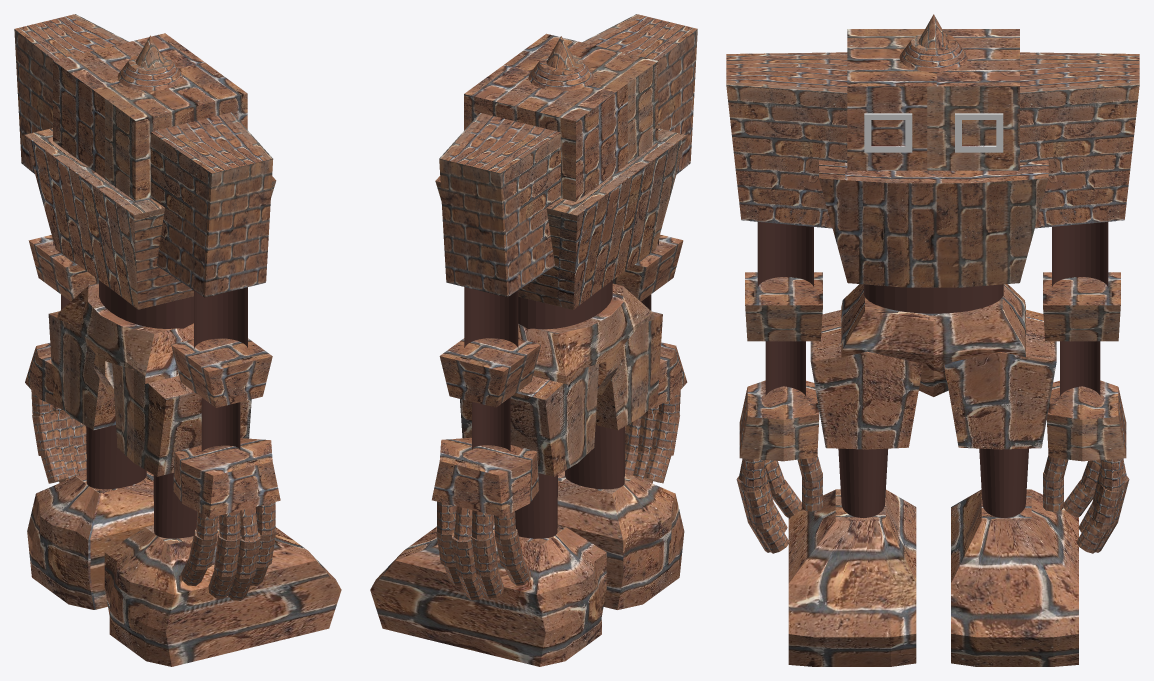
File: ロボット＜proto＞統合済み.fbx
The picture shows the model from 3 angles, left to right: view 1: azimuth 30°, elevation 25°; view 2: azimuth 150°, elevation 25°; view 3: azimuth 270°, elevation 25°; orthographic projection. The views are drawn at different scales.
Parts seen in each view (by area): view 1: Arm_R, Foot_R, Head, Foot_L, Body, Arm_L, Waist; view 2: Arm_L, Foot_L, Head, Foot_R, Body, Arm_R, Waist; view 3: Arm_R, Arm_L, Foot_R, Foot_L, Body, Head, Waist.
Boxes of the visible parts, bbox=[...] form: Arm_R: bbox=[150, 112, 280, 600]; Foot_R: bbox=[104, 363, 341, 666]; Head: bbox=[53, 33, 247, 201]; Foot_L: bbox=[27, 311, 153, 609]; Body: bbox=[24, 128, 276, 328]; Arm_L: bbox=[14, 14, 128, 483]; Waist: bbox=[57, 283, 193, 394]; Arm_L: bbox=[432, 113, 560, 600]; Foot_L: bbox=[370, 363, 606, 666]; Head: bbox=[464, 33, 658, 201]; Foot_R: bbox=[557, 311, 684, 609]; Body: bbox=[435, 128, 686, 329]; Arm_R: bbox=[582, 14, 697, 483]; Waist: bbox=[518, 283, 654, 394]; Arm_R: bbox=[726, 52, 847, 553]; Arm_L: bbox=[1020, 52, 1139, 553]; Foot_R: bbox=[788, 310, 922, 666]; Foot_L: bbox=[944, 309, 1078, 666]; Body: bbox=[819, 160, 1048, 313]; Head: bbox=[847, 14, 1019, 170]; Waist: bbox=[841, 284, 1025, 396].
Bounding box in the file's own units: 1397 × 3807 × 2396.
7 materials, 2 textured.
